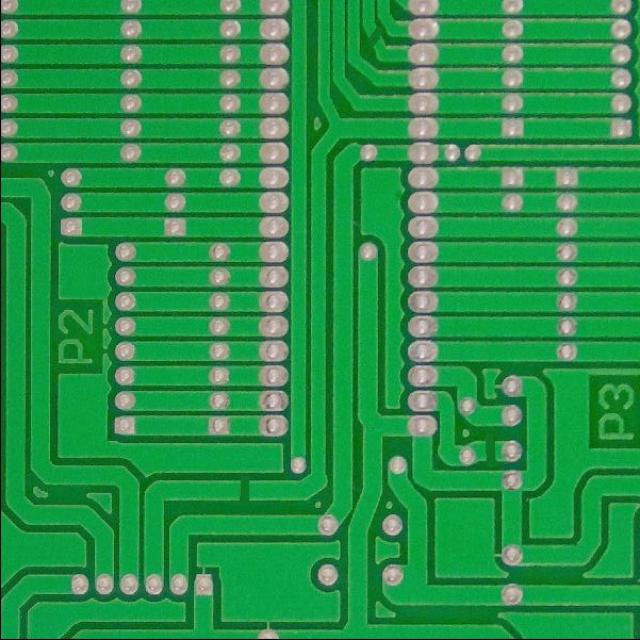Open_Circuit: (227, 464, 259, 516), (474, 425, 504, 476), (359, 22, 390, 52)
